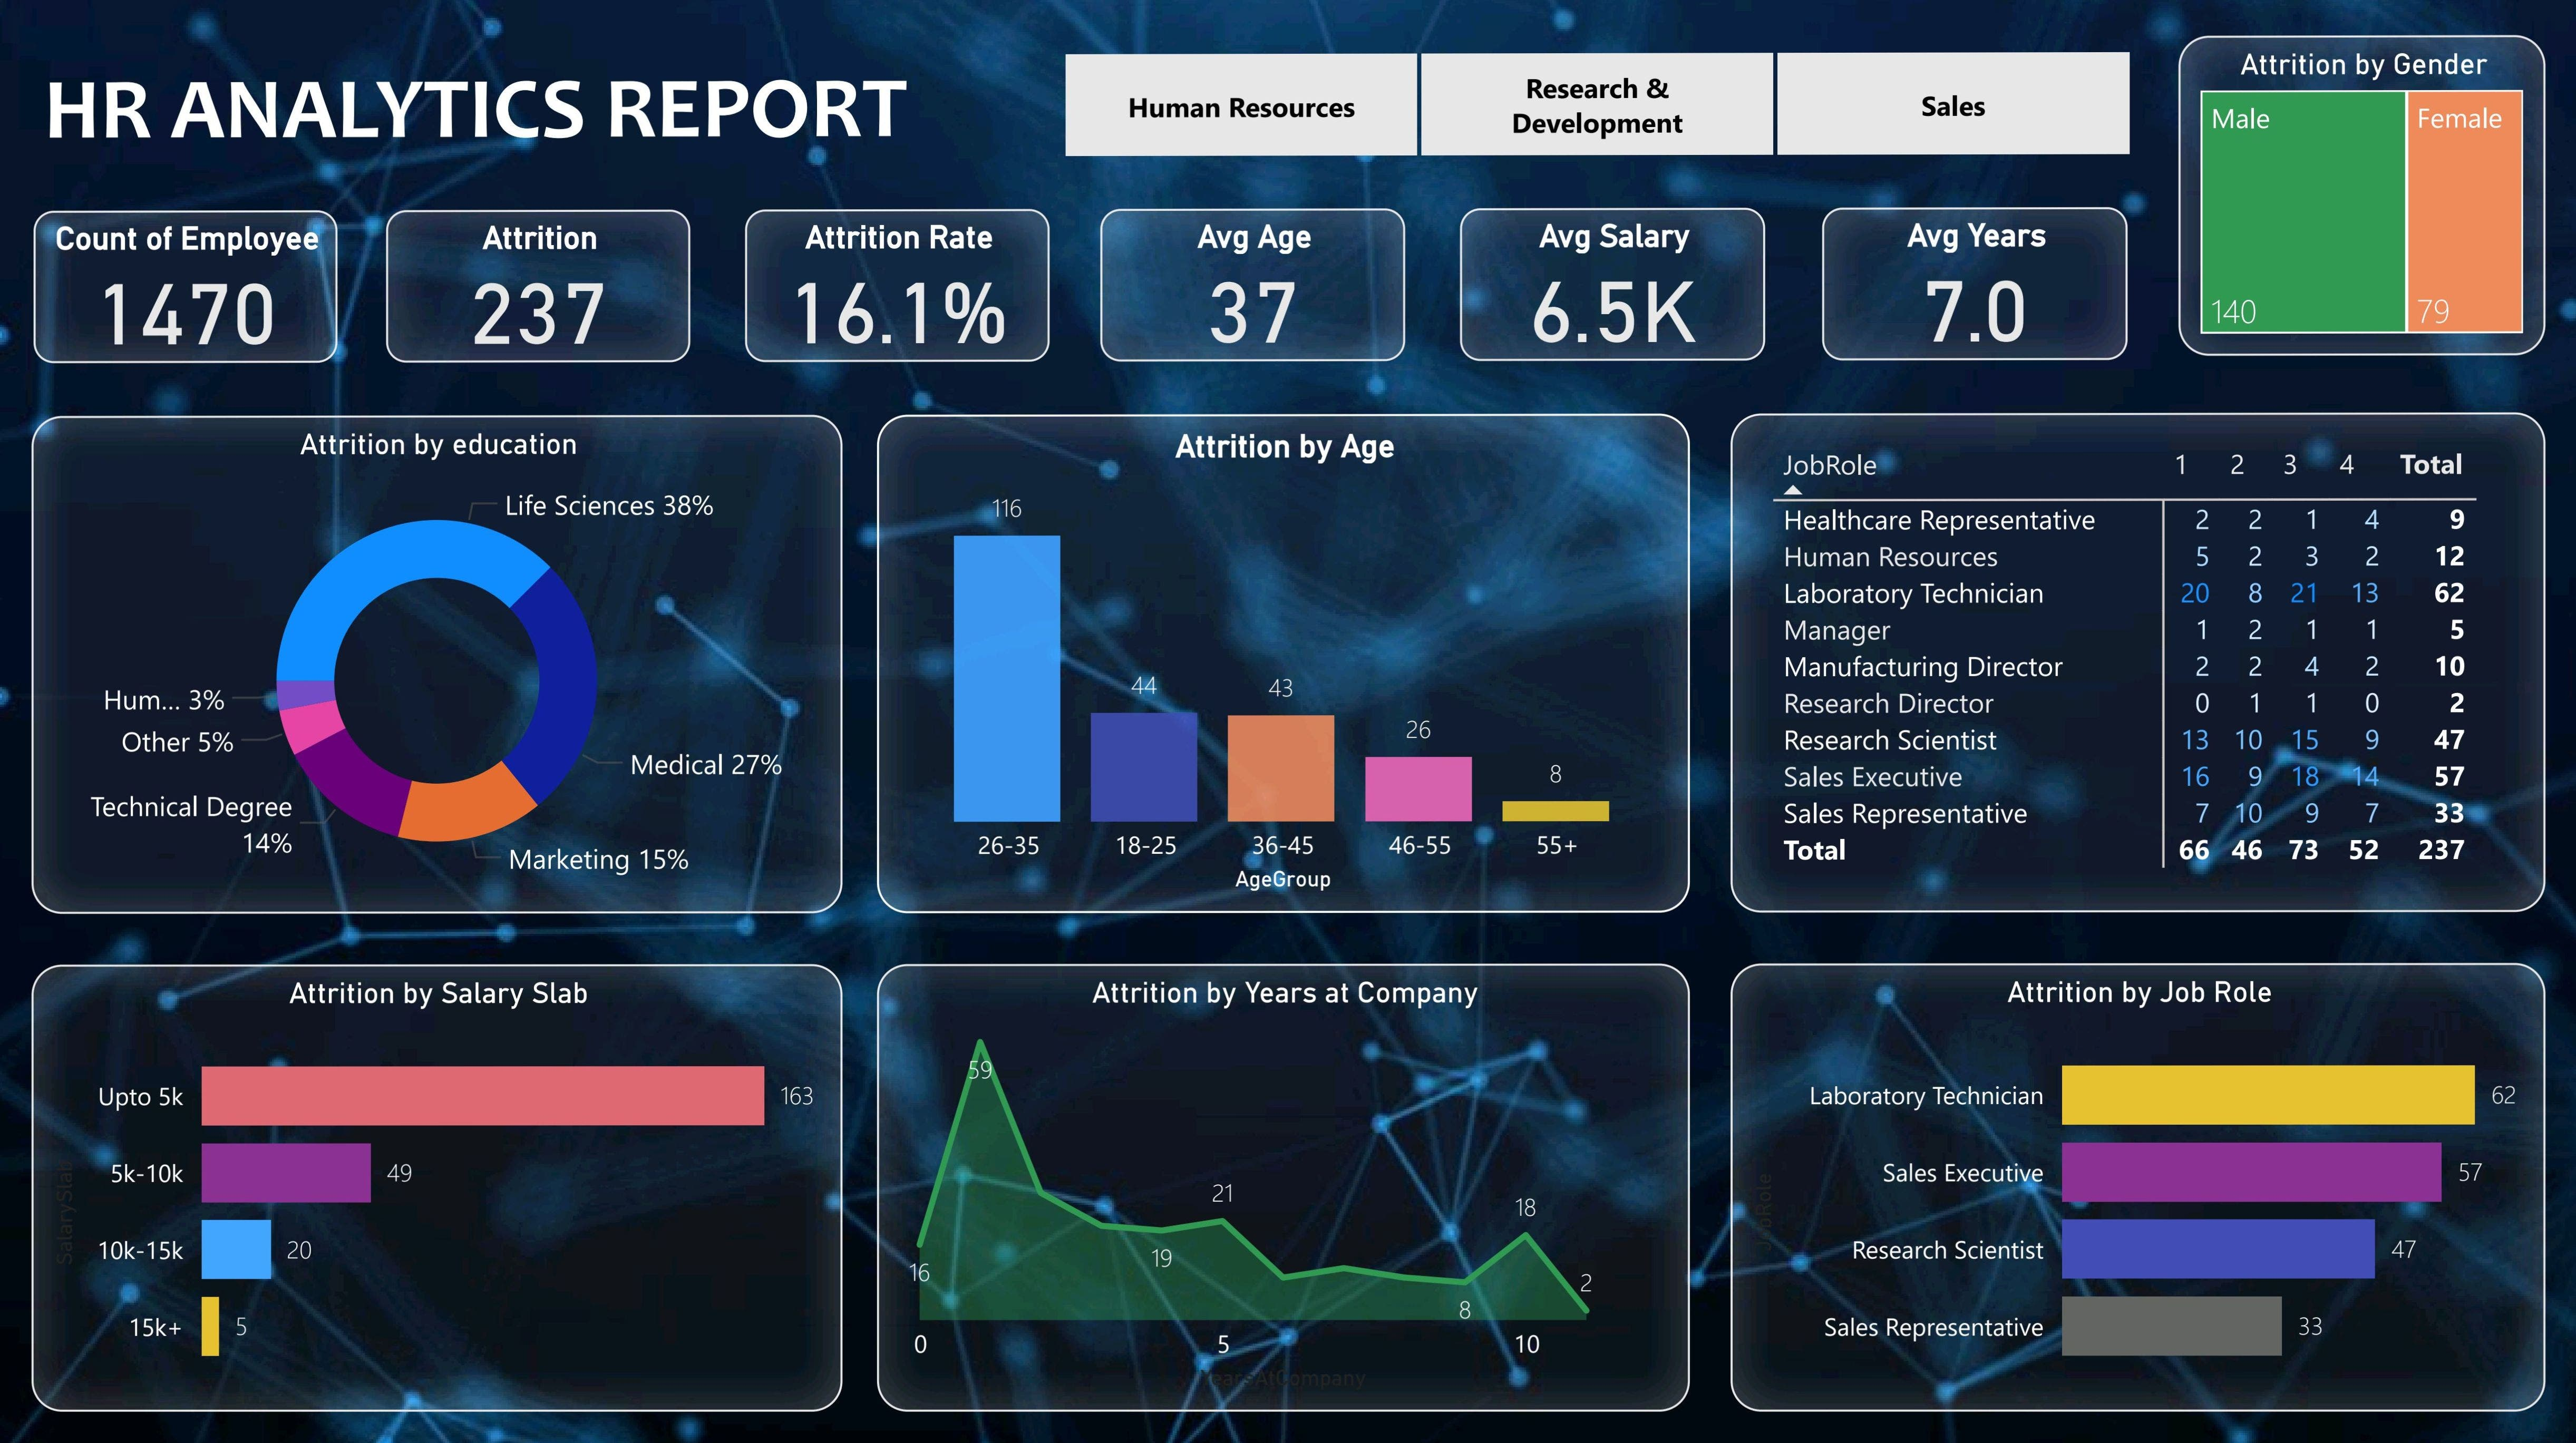

What the dashboard file says about the page in this screenshot:
{"tool":"powerbi","page":{"name":"Page 1","canvas":[1280,720],"ordinal":0},"visuals":[{"type":"card","title":"Count of Employee","fields":{"Values":["CountNonNull(HR_Analytics.EmpID)"]},"box":[23.9,106,150,74.8],"z":0},{"type":"card","title":"Attrition","fields":{"Values":["Sum(HR_Analytics.AttritionCount)"]},"box":[198,106,150,74.8],"z":1000},{"type":"card","title":"Attrition Rate","fields":{"Values":["HR_Analytics.Attrition rate"]},"box":[375,106,150,74.8],"z":2000},{"type":"card","title":"Avg Age","fields":{"Values":["Avg(HR_Analytics.Age)"]},"box":[550,106,150,74.8],"z":3000},{"type":"card","title":"Avg Salary","fields":{"Values":["Avg(HR_Analytics.MonthlyIncome)"]},"box":[727,106,150,74.8],"z":4000},{"type":"card","title":"Avg Years","fields":{"Values":["Avg(HR_Analytics.YearsAtCompany)"]},"box":[905,106,150,74.8],"z":5000},{"type":"donutChart","title":"Attrition by education","fields":{"Category":["HR_Analytics.EducationField"],"Y":["Sum(HR_Analytics.AttritionCount)"]},"box":[23.3,207,400,245],"z":6000},{"type":"columnChart","title":"Attrition by Age","fields":{"Category":["HR_Analytics.AgeGroup"],"Y":["Sum(HR_Analytics.AttritionCount)"]},"box":[440,207,400,245],"z":7000},{"type":"pivotTable","fields":{"Rows":["HR_Analytics.JobRole"],"Columns":["HR_Analytics.JobSatisfaction"],"Values":["Sum(HR_Analytics.AttritionCount)"]},"box":[860,206.7,400,245],"z":8000},{"type":"barChart","title":"Attrition by Salary Slab","fields":{"Category":["HR_Analytics.SalarySlab"],"Y":["Sum(HR_Analytics.AttritionCount)"]},"box":[23.3,476.7,400,220],"z":9000},{"type":"barChart","title":"Attrition by Job Role","fields":{"Category":["HR_Analytics.JobRole","HR_Analytics.SalarySlab"],"Y":["Sum(HR_Analytics.AttritionCount)"]},"box":[860,476.7,400,220],"z":10000},{"type":"areaChart","title":"Attrition by Years at Company","fields":{"Category":["HR_Analytics.YearsAtCompany"],"Y":["Sum(HR_Analytics.AttritionCount)"]},"box":[440,476.7,400,220],"z":11000},{"type":"treemap","title":"Attrition by Gender","fields":{"Group":["HR_Analytics.Gender"],"Values":["Sum(HR_Analytics.AttritionCount)"]},"box":[1080,22,179.7,157.5],"z":12000},{"type":"slicer","fields":{"Values":["HR_Analytics.Department"]},"box":[506.7,23.3,573.3,63.3],"z":13000},{"type":"textbox","box":[23.9,23.9,459.7,63.6],"z":14000}]}

Visuals, with their boxes in screenshot pixels (x1, y1, x2, y2), scaled from the page's 1280x720 canvas onto the 2576x1443 screenshot:
"Count of Employee" card: [left=48, top=212, right=350, bottom=363]
"Attrition" card: [left=398, top=212, right=701, bottom=363]
"Attrition Rate" card: [left=755, top=212, right=1056, bottom=363]
"Avg Age" card: [left=1107, top=212, right=1409, bottom=363]
"Avg Salary" card: [left=1463, top=212, right=1765, bottom=363]
"Avg Years" card: [left=1821, top=212, right=2123, bottom=363]
"Attrition by education" donutChart: [left=47, top=415, right=852, bottom=906]
"Attrition by Age" columnChart: [left=886, top=415, right=1690, bottom=906]
pivotTable - HR_Analytics.JobRole x HR_Analytics.JobSatisfaction: [left=1731, top=414, right=2536, bottom=905]
"Attrition by Salary Slab" barChart: [left=47, top=955, right=852, bottom=1396]
"Attrition by Job Role" barChart: [left=1731, top=955, right=2536, bottom=1396]
"Attrition by Years at Company" areaChart: [left=886, top=955, right=1690, bottom=1396]
"Attrition by Gender" treemap: [left=2173, top=44, right=2535, bottom=360]
slicer - HR_Analytics.Department: [left=1020, top=47, right=2173, bottom=173]
textbox: [left=48, top=48, right=973, bottom=175]
